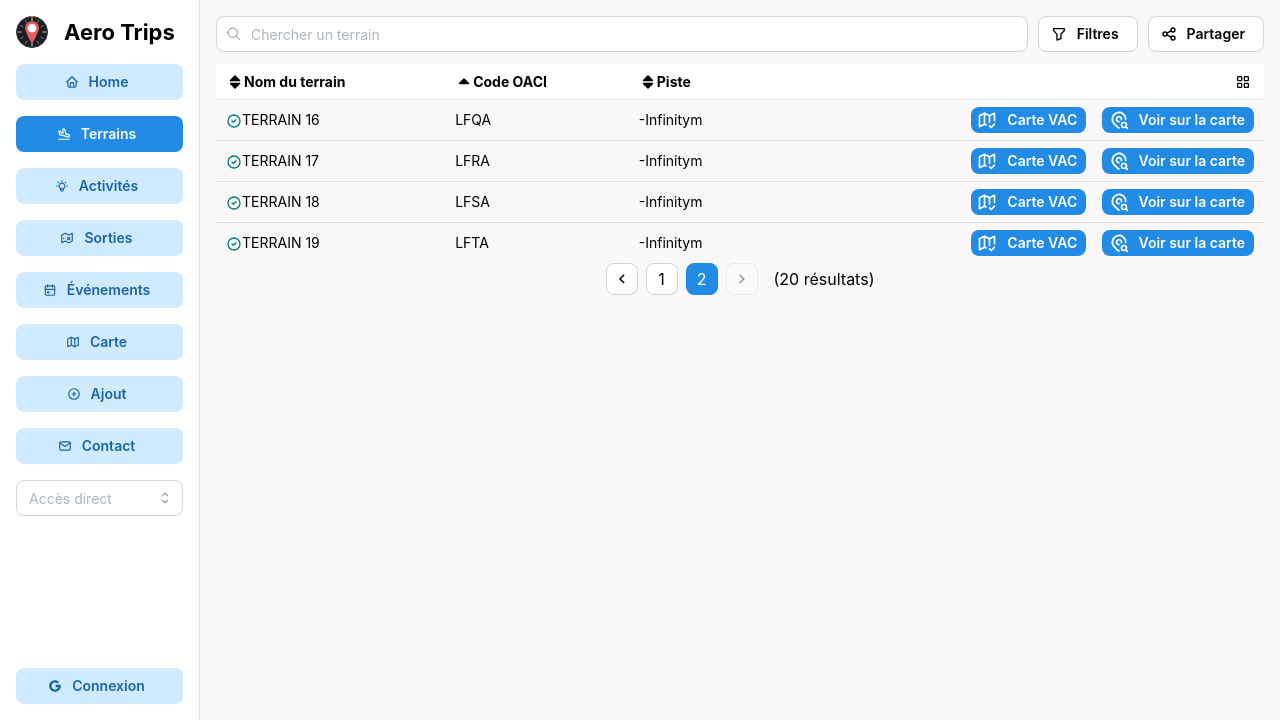
keeps the filters in the URL when they change the page count
// One change, like a chip click (typing would write the search back on the next keystroke)
Click the field with placeholder "Chercher un terrain".
click(622, 34)  # box [216,16,1028,52]
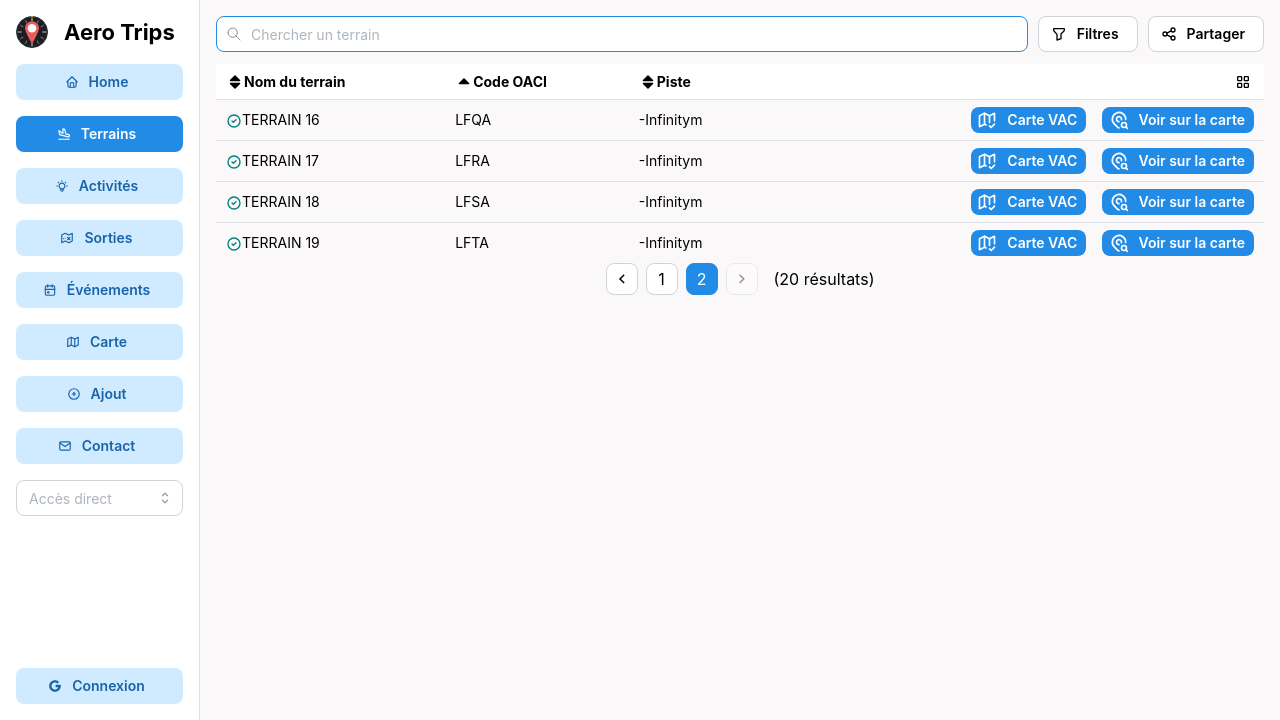
Type keys "laval"
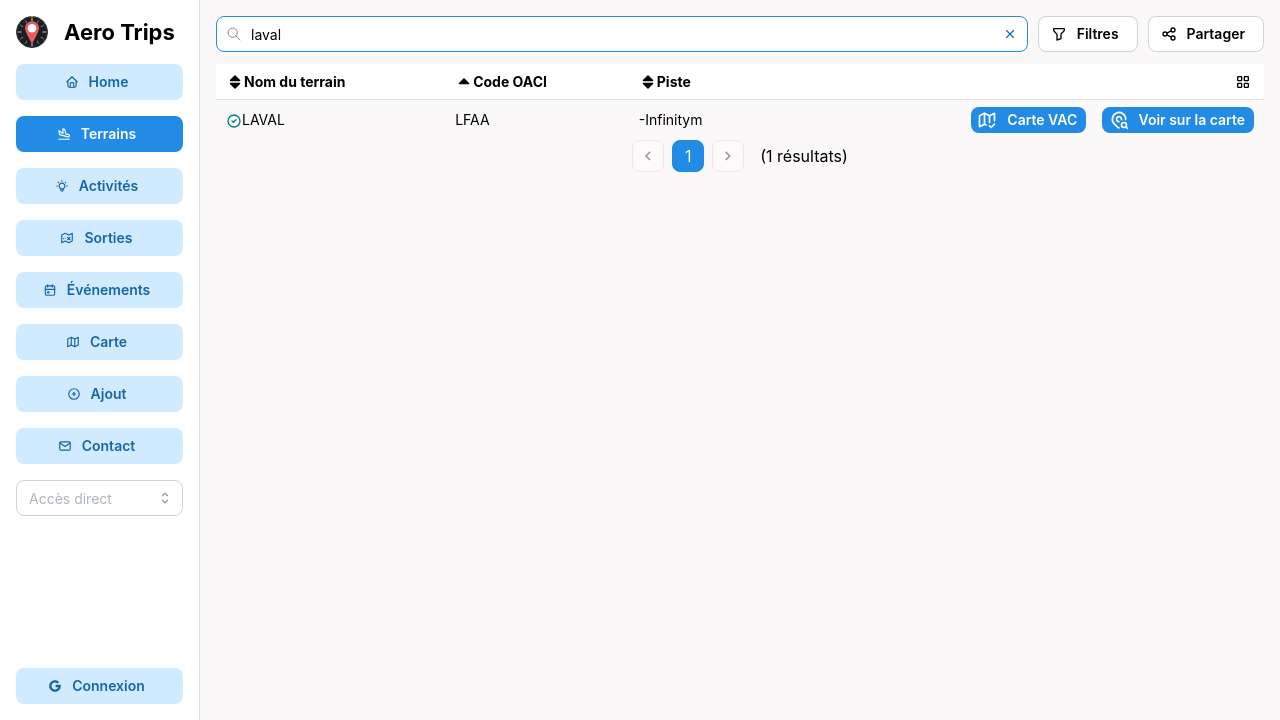
expect the field with placeholder "Chercher un terrain" holds "laval": met, box [216,16,1028,52]
